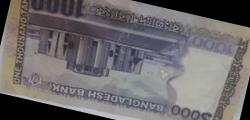1000 taka: (12, 1, 241, 119)
